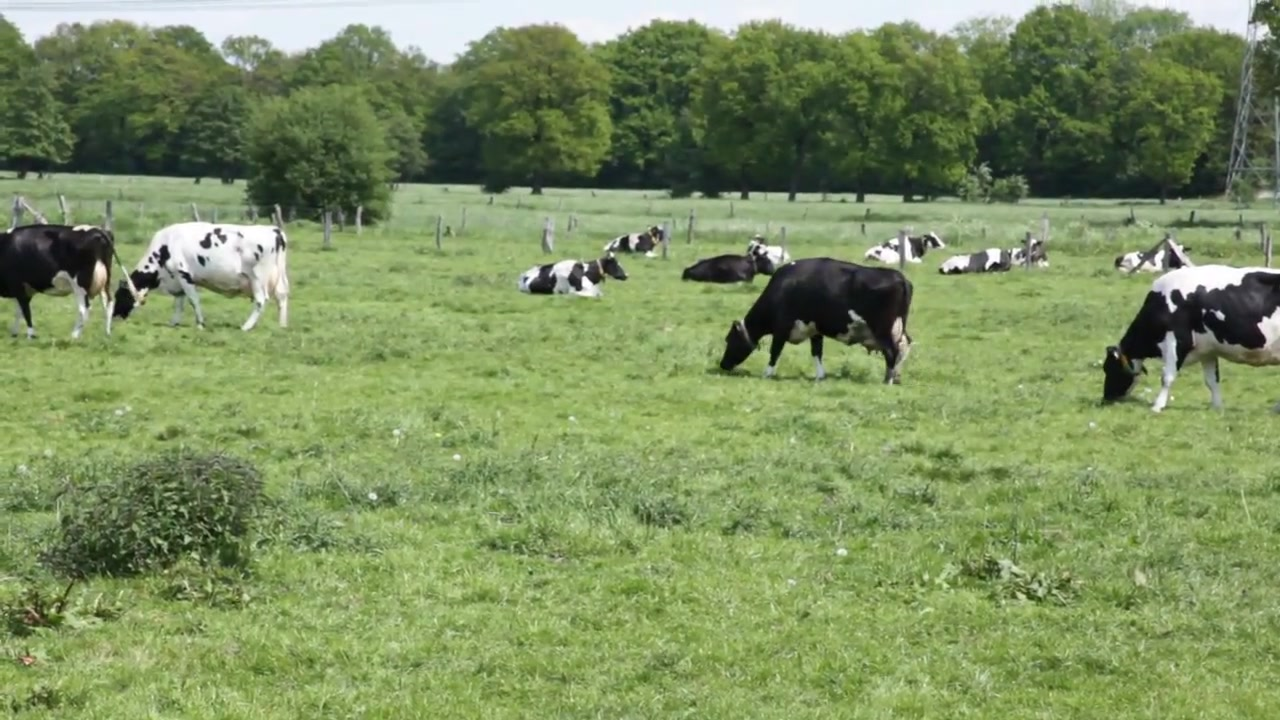cow: (719, 259, 923, 388)
